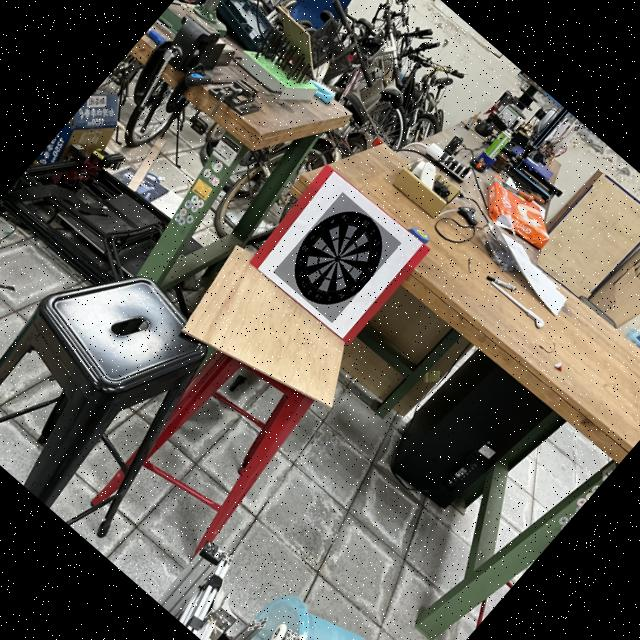archery-targets: (272, 192, 401, 323)
